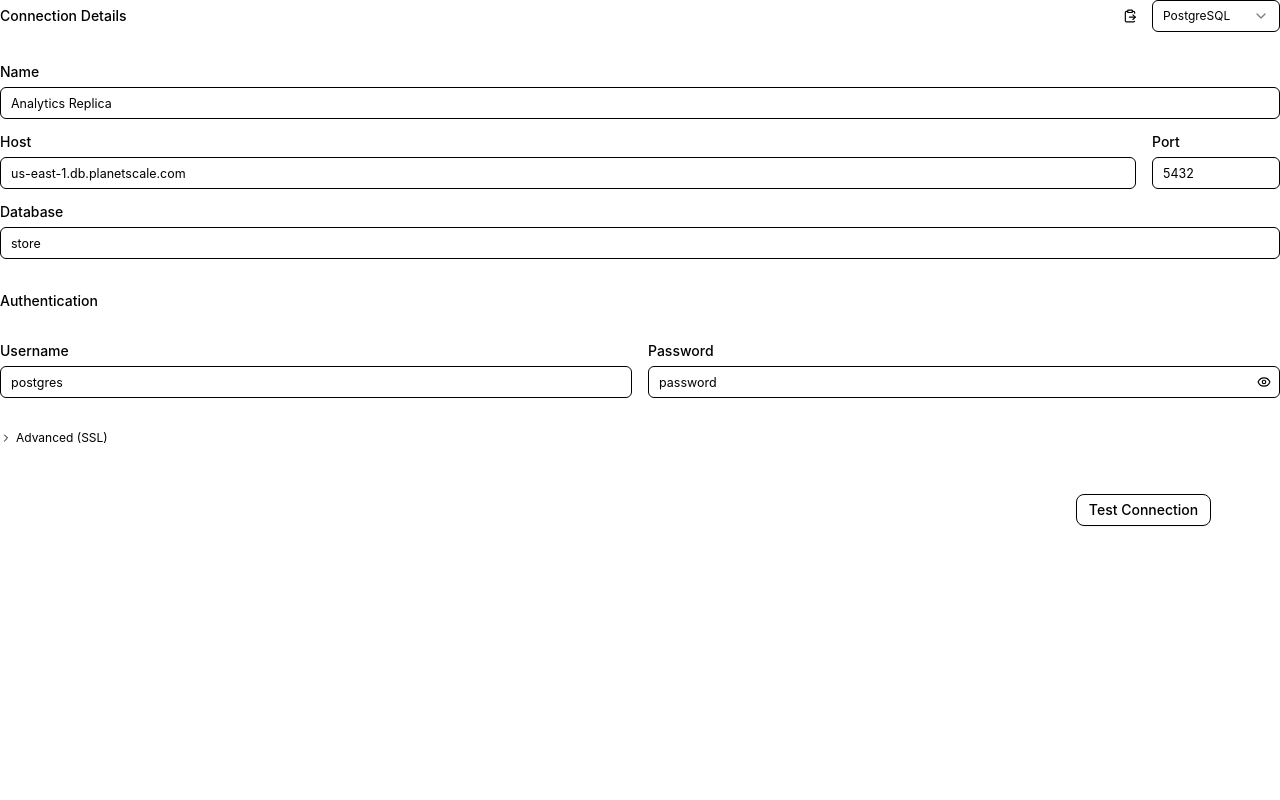
DatabaseForm › connection string paste › fills fields from a pasted connection string
Click the button named "Paste a connection string". click: point(1130, 16)
box: x1=1116 y1=2 x2=1144 y2=30
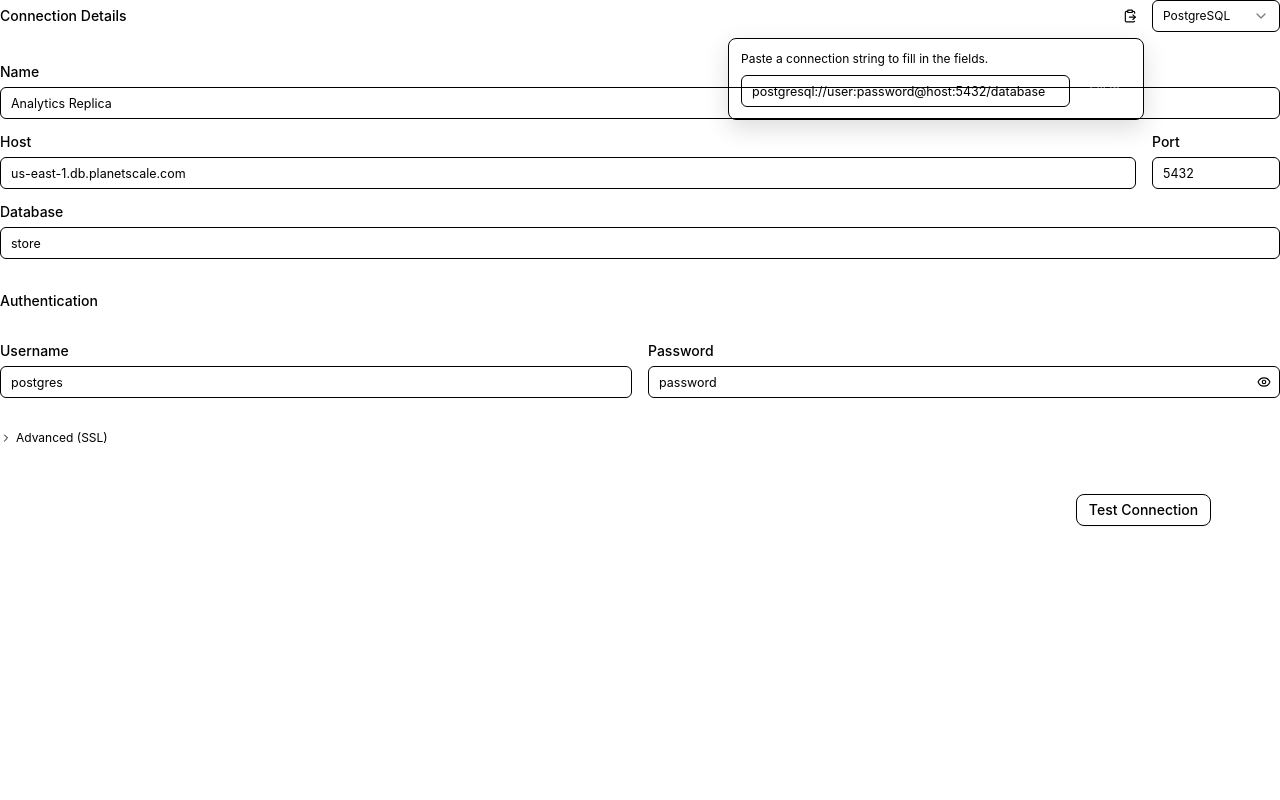
Type "postgresql://alice:secret@db.example.com:6543/analytics" into the field with placeholder "postgresql://user:password@host:5432/database". click: point(906, 91)
box: x1=741 y1=75 x2=1070 y2=107
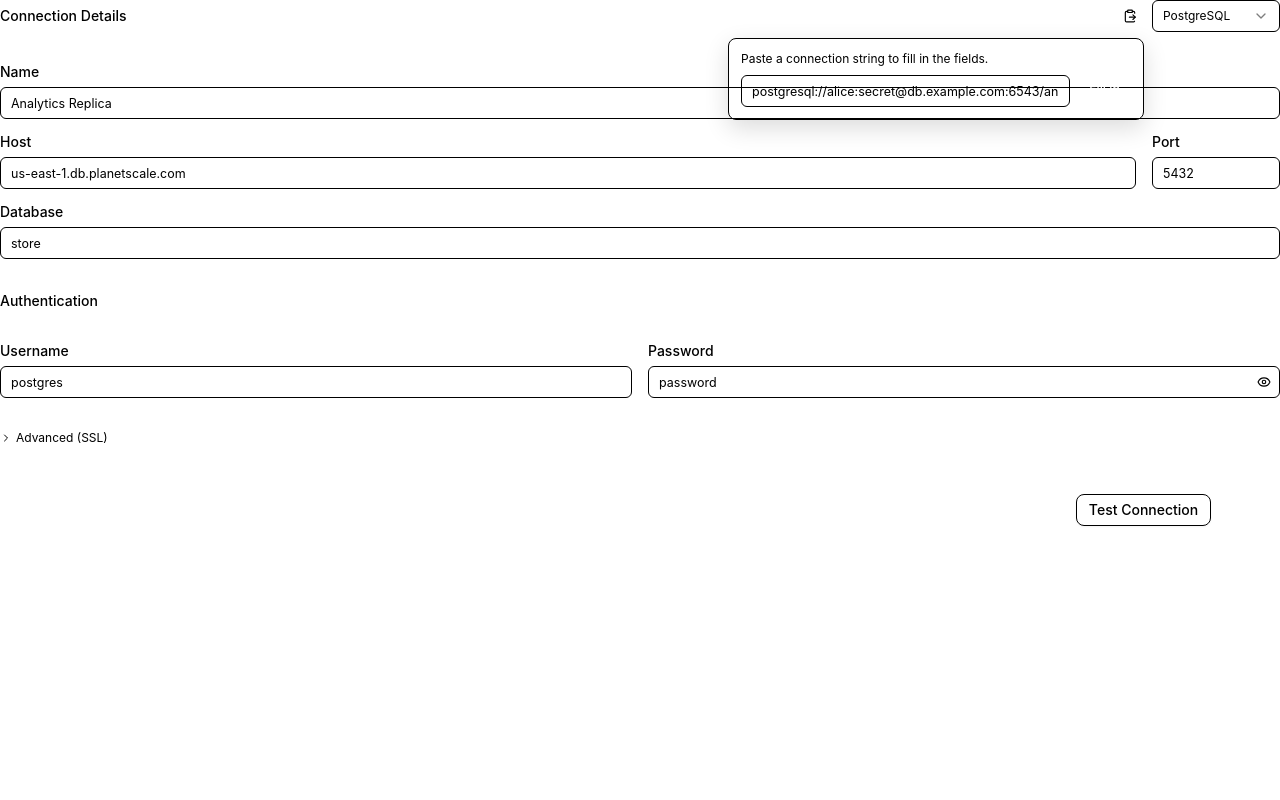
Click the button "Fill in". click: point(1105, 90)
box: x1=1078 y1=75 x2=1131 y2=104
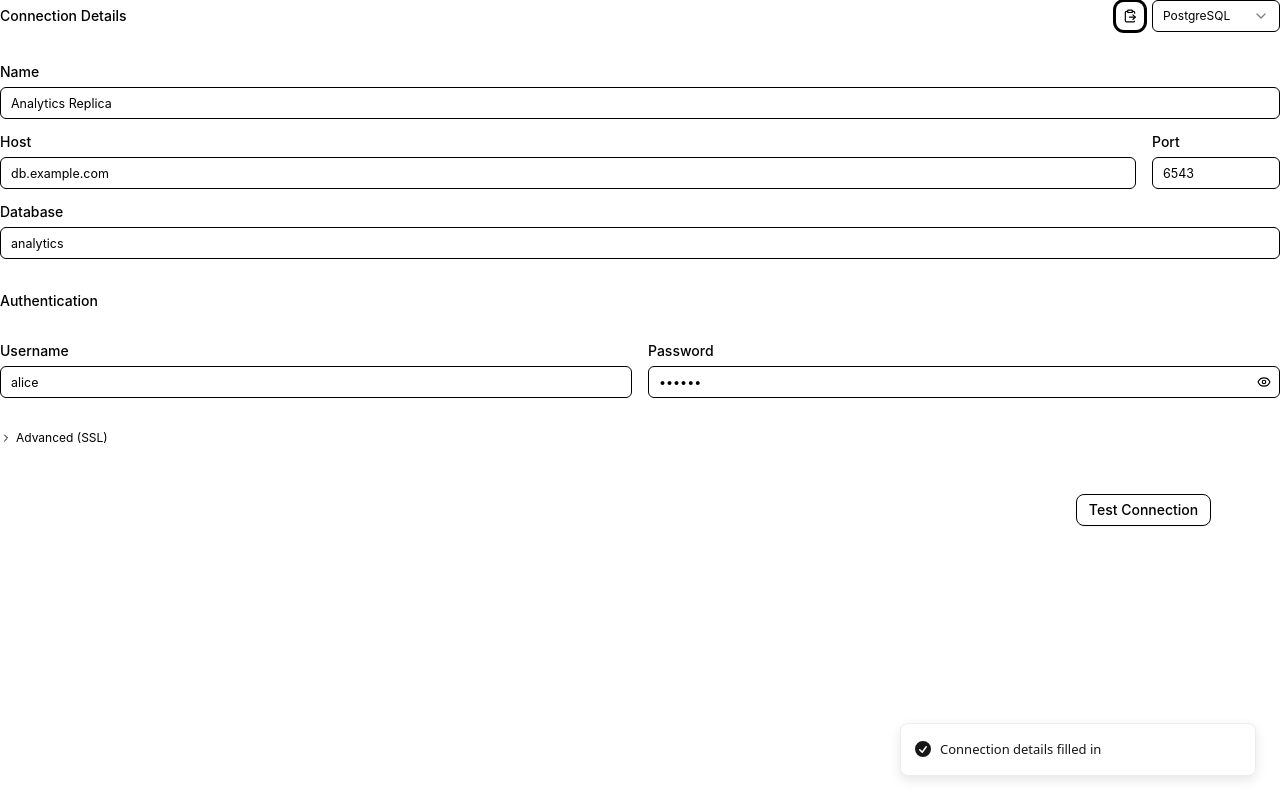
Now the field labelled "Host" holds "db.example.com", box x1=0 y1=157 x2=1136 y2=189
Now the number field labelled "Port" holds "6543", box x1=1152 y1=157 x2=1279 y2=189
Now the field labelled "Database" holds "analytics", box x1=0 y1=227 x2=1279 y2=259
